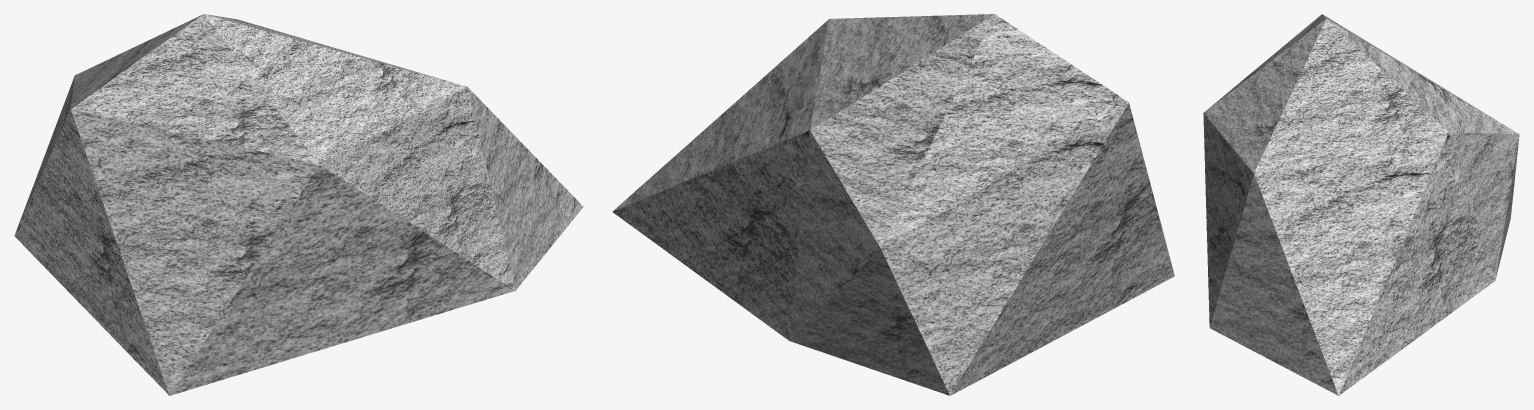
File: rock4.fbx
The picture shows the model from 3 angles, left to right: view 1: azimuth 30°, elevation 25°; view 2: azimuth 150°, elevation 25°; view 3: azimuth 270°, elevation 25°; orthographic projection. The views are drawn at different scales.
Parts seen in each view (by area): view 1: GeoSphere002; view 2: GeoSphere002; view 3: GeoSphere002.
Part boxes in pixels (x1,y1,x2,y2): GeoSphere002: (14, 14, 583, 395); GeoSphere002: (612, 14, 1174, 395); GeoSphere002: (1203, 14, 1519, 395).
Bounding box in the file's own units: 73.02 × 39.93 × 48.84.
Materials: 1 (1 with a texture image).
